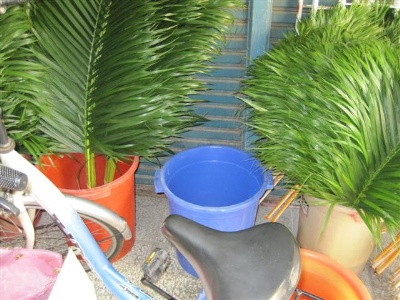bucket: (155, 143, 271, 278), (38, 152, 136, 263)
